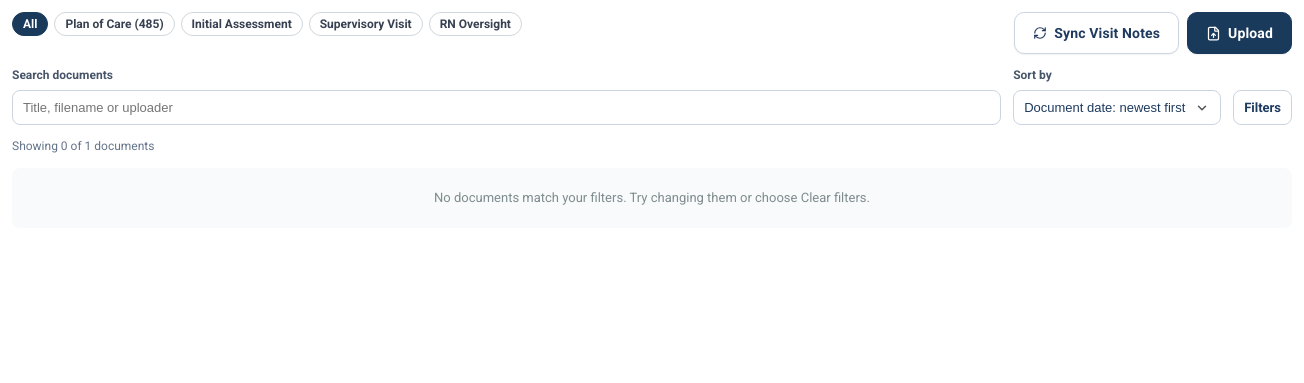
Test: Document filters and sorting › filters archived-only records and shows a helpful empty result
Click the button "Filters": (1263,108) [1233,90,1292,125]
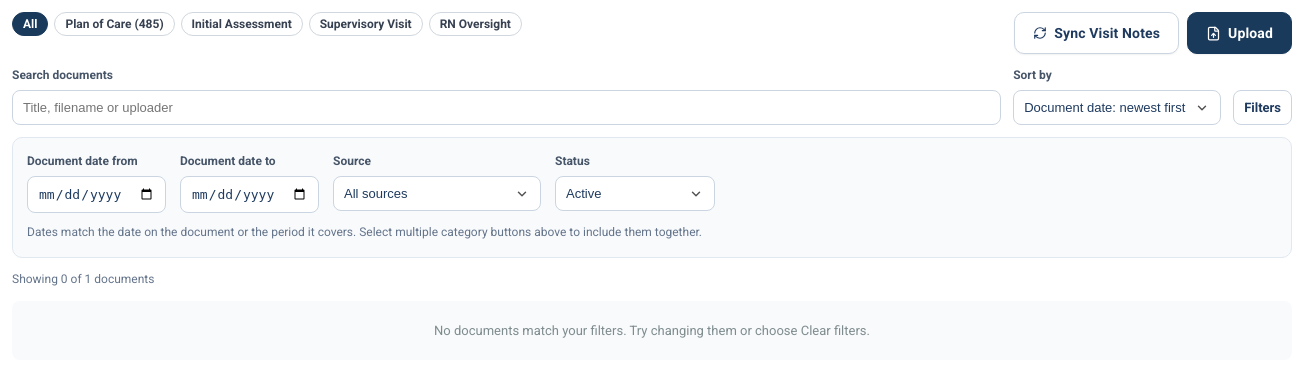
Select "Archived" in the dropdown labelled "Status": (635,194) [555,176,715,211]
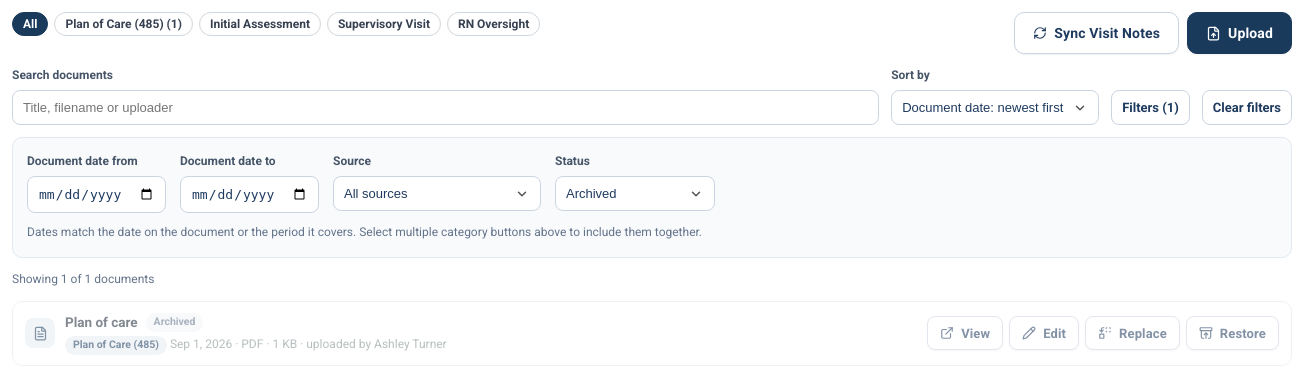
Now the text "Plan of care" is shown, box [65,314,138,330]
Select "Visit notes" in the dropdown labelled "Source": (437,194) [333,176,541,211]
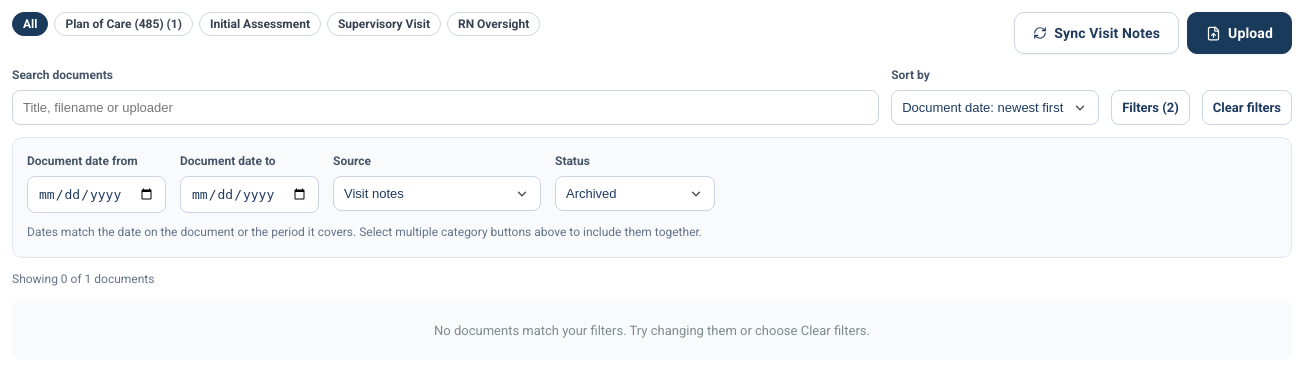
Now the text "No documents match your filters" is shown, box [434,323,870,338]
